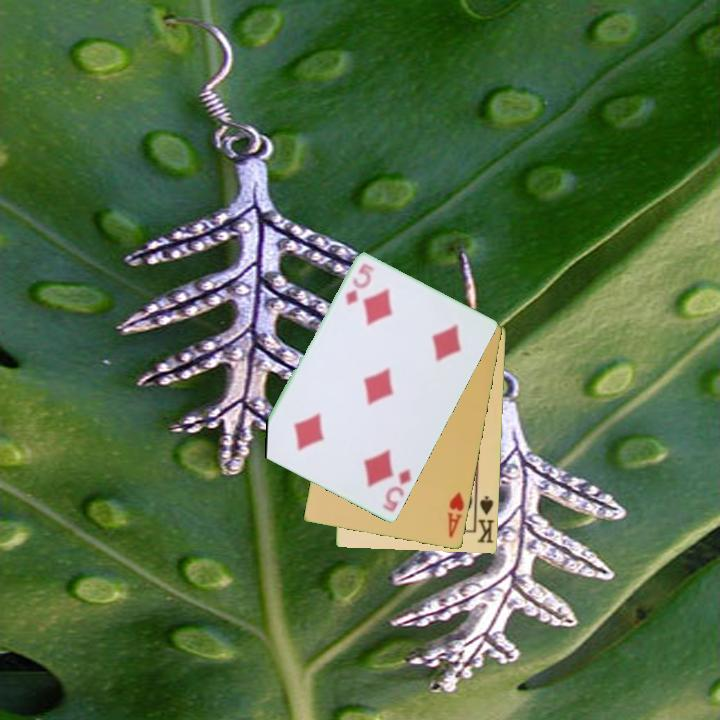5d: (379, 466, 415, 515), (342, 260, 376, 309)
Ah: (443, 489, 467, 541)
Ks: (471, 491, 497, 546)
